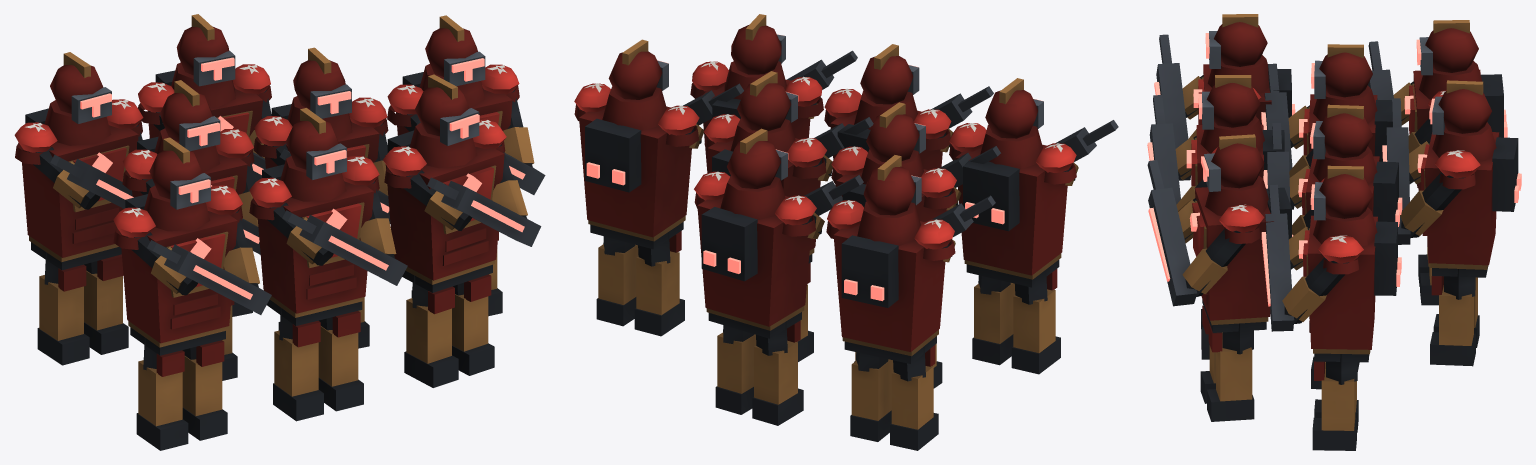
Rendered from squad_dl8_red.glb.
3 views of the same model, side by side, from view 1: azimuth 30°, elevation 25°; view 2: azimuth 150°, elevation 25°; view 3: azimuth 270°, elevation 25° (orthographic). The views are drawn at different scales.
Parts seen in each view (by area): view 1: squad_dl8_red; view 2: squad_dl8_red; view 3: squad_dl8_red.
Part boxes in pixels (box(x1,y1,x2,y2)): squad_dl8_red: box(14, 14, 545, 450); squad_dl8_red: box(574, 14, 1118, 450); squad_dl8_red: box(1147, 14, 1521, 450).
Size of the model in its own units: 0.6966 by 0.4109 by 0.5206.
2 materials, 1 textured.
